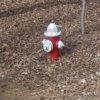Hydrant: (36, 17, 73, 68)
